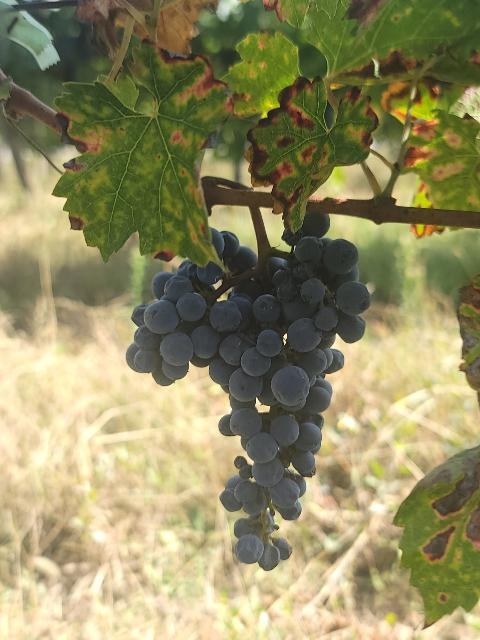grapes: (126, 221, 370, 570)
